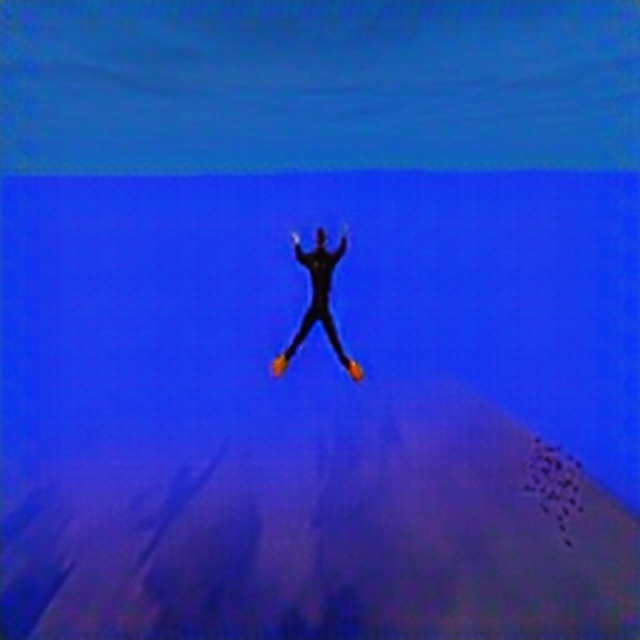diver: (270, 217, 365, 387)
